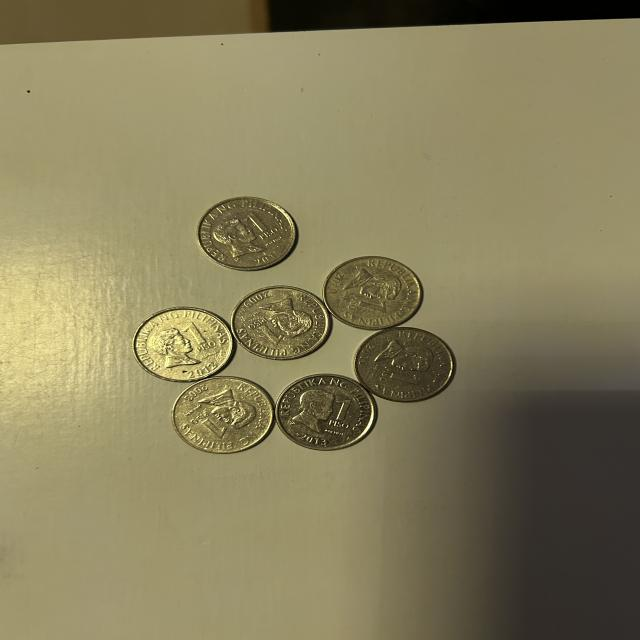1_Old_Front: (239, 212, 291, 250), (176, 318, 223, 359), (183, 410, 231, 443), (243, 314, 288, 349), (379, 362, 425, 392), (324, 394, 354, 439), (346, 292, 391, 321)
